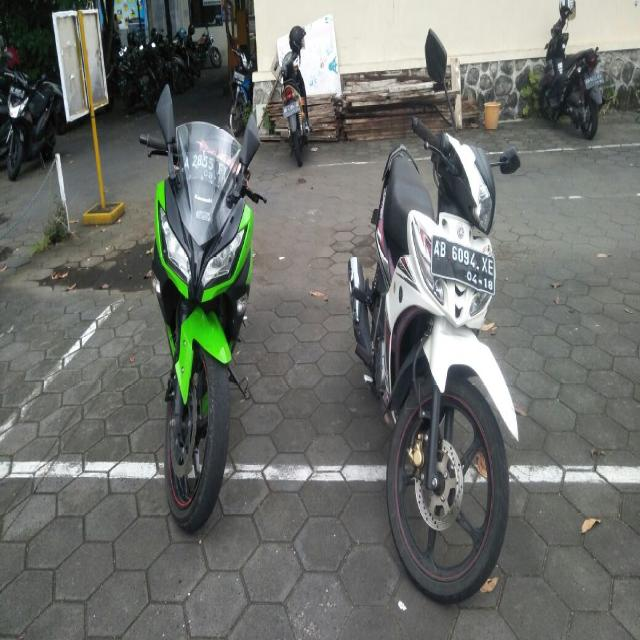plate: (432, 234, 494, 297), (282, 99, 300, 118)
